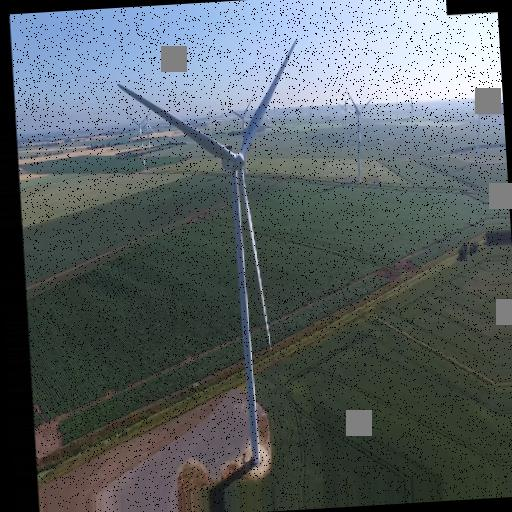wind turbine: (112, 37, 300, 468), (339, 90, 374, 180)
